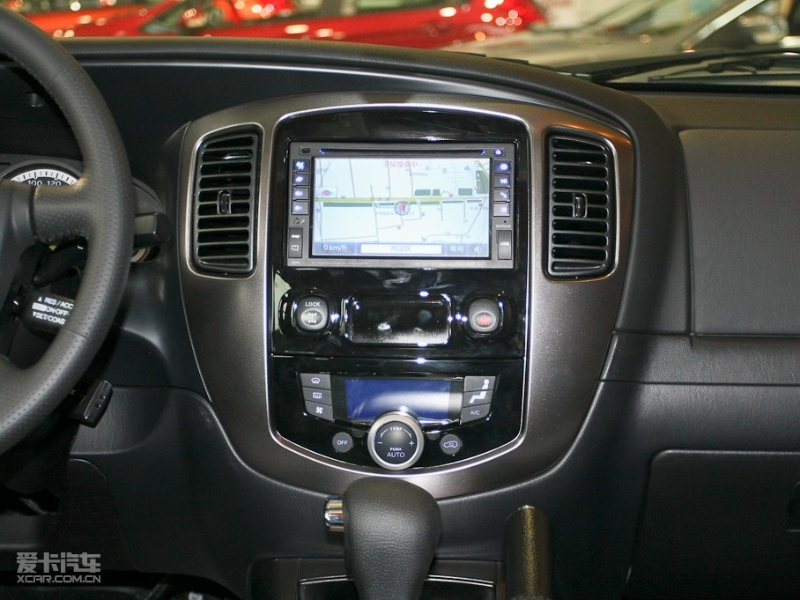control_center: (172, 55, 623, 468)
gear_lever: (308, 464, 489, 572)
odometer: (9, 144, 98, 189)
steering_wheel: (1, 12, 203, 438)
